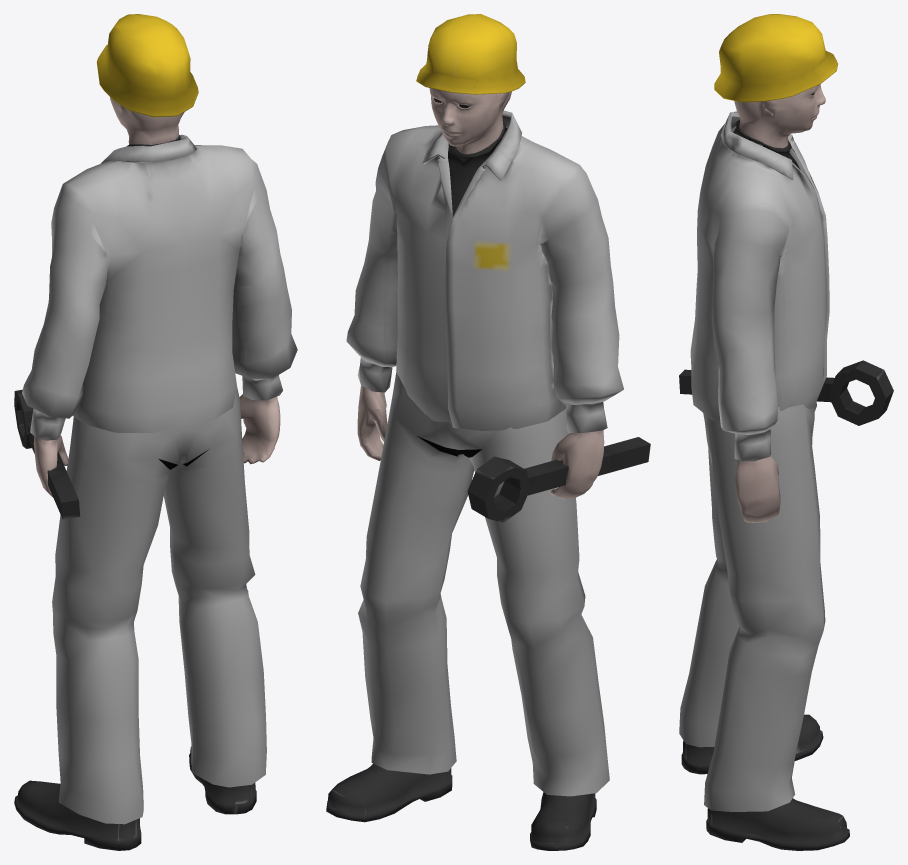
The model's file is worker.fbx.
The picture shows the model from 3 angles, left to right: view 1: azimuth 30°, elevation 25°; view 2: azimuth 150°, elevation 25°; view 3: azimuth 270°, elevation 25°; orthographic projection. The views are drawn at different scales.
Parts seen in each view (by area): view 1: worker; view 2: worker; view 3: worker.
Boxes of the visible parts, bbox=[...] form: worker: bbox=[14, 14, 297, 850]; worker: bbox=[326, 14, 650, 850]; worker: bbox=[679, 14, 893, 850].
Bounding box in the file's own units: 66.02 × 184 × 45.83.
